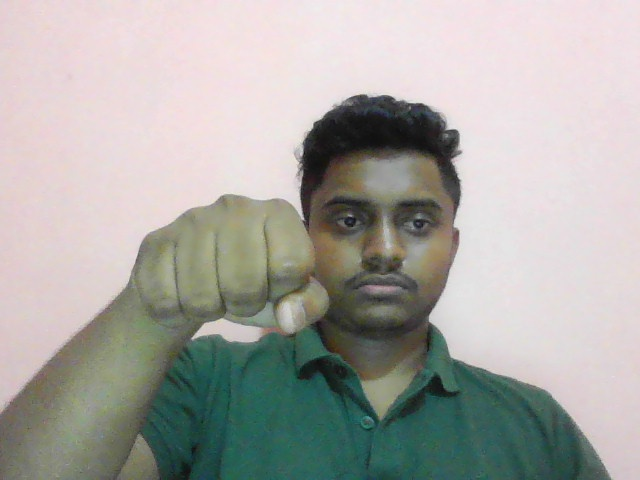Yes: (124, 190, 335, 345)
